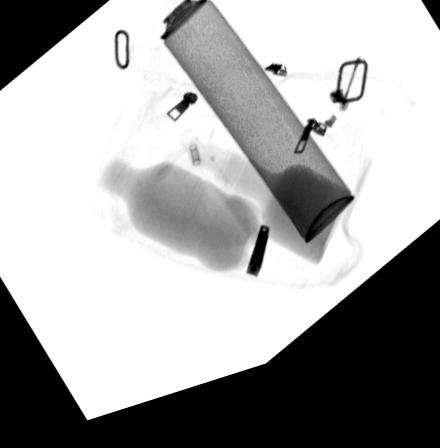Sprayer: (134, 0, 356, 265)
